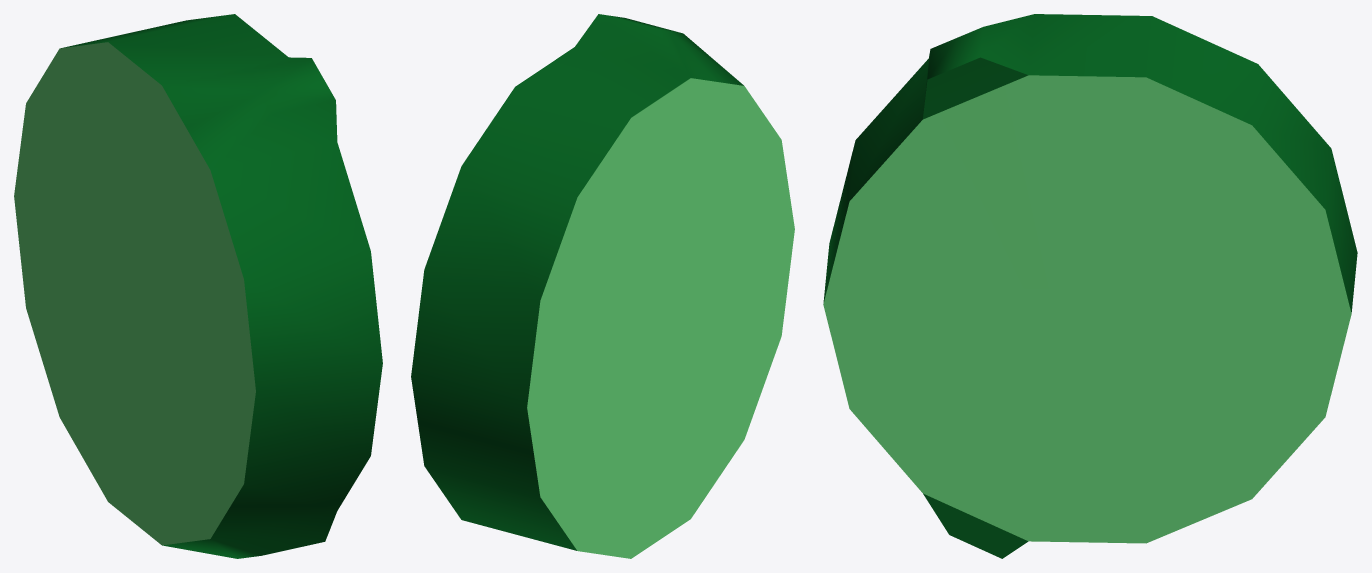
The model's file is mesh_PickleSlice_Stage09.fbx.
3 renders of one model, left to right at view 1: azimuth 30°, elevation 25°; view 2: azimuth 150°, elevation 25°; view 3: azimuth 270°, elevation 25°, orthographic. The views are drawn at different scales.
Visible parts, largest first — view 1: mesh_PickleSlice_Stage09; view 2: mesh_PickleSlice_Stage09; view 3: mesh_PickleSlice_Stage09.
Boxes of the visible parts, left/top/right/bottom form: mesh_PickleSlice_Stage09: left=14, top=14, right=382, bottom=558; mesh_PickleSlice_Stage09: left=411, top=14, right=794, bottom=558; mesh_PickleSlice_Stage09: left=823, top=14, right=1357, bottom=558.
Bounding box in the file's own units: 0.0105 × 0.0349 × 0.0337.
